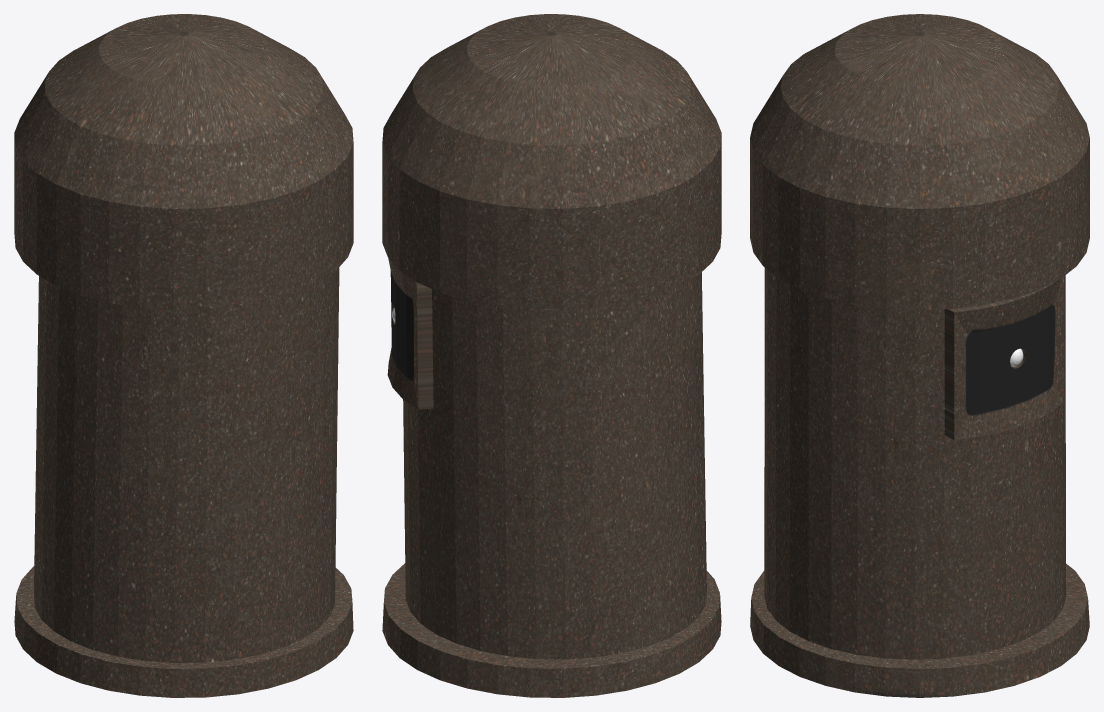
File: locator.glb
3 renders of one model, left to right at view 1: azimuth 30°, elevation 25°; view 2: azimuth 150°, elevation 25°; view 3: azimuth 270°, elevation 25°, orthographic.
Visible parts, largest first — view 1: ELocator; view 2: ELocator; view 3: ELocator.
Boxes of the visible parts, bbox=[...] form: ELocator: bbox=[14, 14, 353, 697]; ELocator: bbox=[382, 14, 721, 697]; ELocator: bbox=[750, 14, 1089, 697].
Size of the model in its own units: 0.1179 by 0.2266 by 0.1179.
2 materials, 1 textured.
